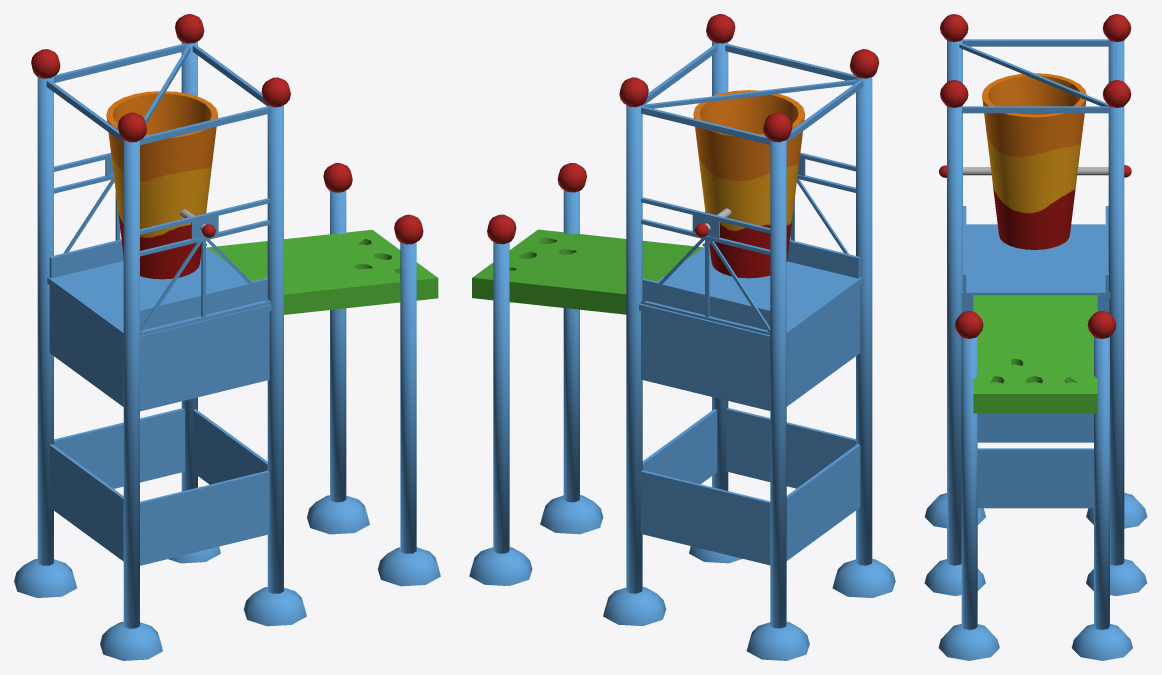
The model's file is TourSplash.fbx.
3 renders of one model, left to right at view 1: azimuth 30°, elevation 25°; view 2: azimuth 150°, elevation 25°; view 3: azimuth 270°, elevation 25°, orthographic. The views are drawn at different scales.
Visible parts, largest first — view 1: Structure, StructureCube, seau, baseTour, Pieds, Spheres; view 2: Structure, StructureCube, seau, baseTour, Pieds, Spheres; view 3: Structure, StructureCube, baseTour, seau, Pieds, Spheres, Barre.
Boxes of the visible parts, <box> form: Structure: <box>37,41,416,628</box>; StructureCube: <box>47,247,271,565</box>; seau: <box>106,91,217,279</box>; baseTour: <box>207,229,438,314</box>; Pieds: <box>14,495,440,660</box>; Spheres: <box>31,14,423,244</box>; Structure: <box>493,41,872,628</box>; StructureCube: <box>639,246,862,565</box>; seau: <box>693,90,804,278</box>; baseTour: <box>472,229,703,314</box>; Pieds: <box>469,495,895,660</box>; Spheres: <box>487,14,878,244</box>; Structure: <box>947,39,1124,629</box>; StructureCube: <box>961,224,1110,508</box>; baseTour: <box>973,295,1097,413</box>; seau: <box>982,73,1086,249</box>; Pieds: <box>924,493,1147,660</box>; Spheres: <box>939,14,1131,338</box>; Barre: <box>963,167,1108,175</box>.
Bounding box in the file's own units: 423 × 627 × 252.
